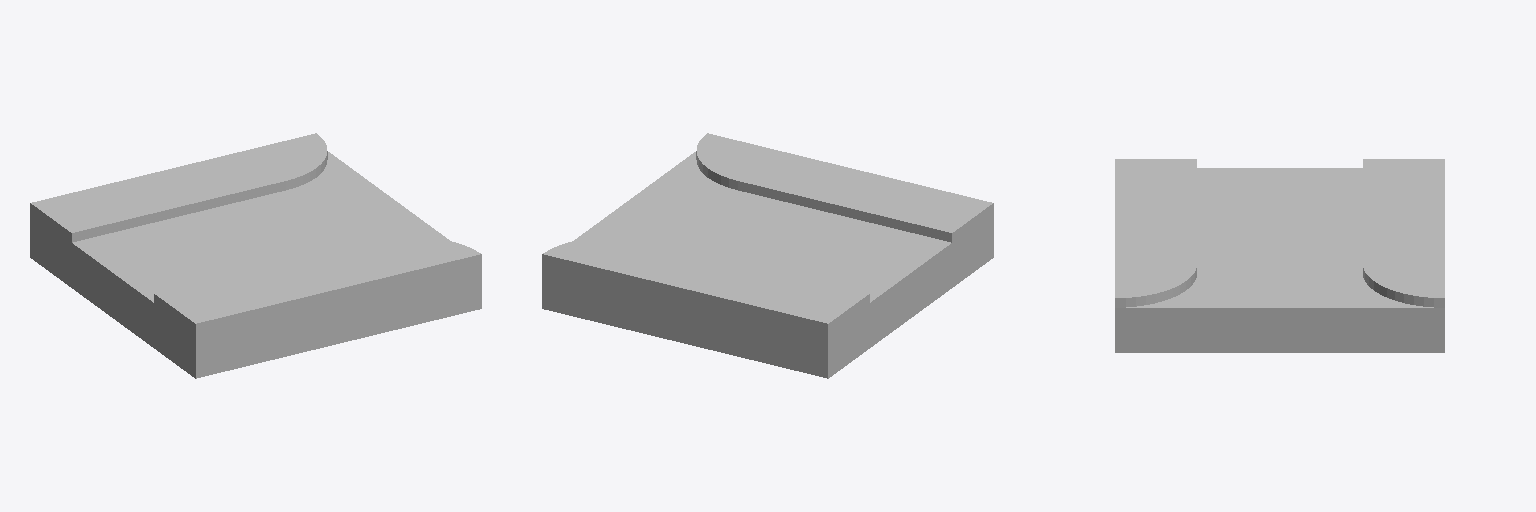
Rendered from roadTile_176.obj.
3 views of the same model, side by side, from view 1: azimuth 30°, elevation 25°; view 2: azimuth 150°, elevation 25°; view 3: azimuth 270°, elevation 25° (orthographic).
Parts seen in each view (by area): view 1: Mesh1 Group1 Model; view 2: Mesh1 Group1 Model; view 3: Mesh1 Group1 Model.
Boxes of the visible parts, <box> form: Mesh1 Group1 Model: <box>30,133,481,378</box>; Mesh1 Group1 Model: <box>542,133,993,378</box>; Mesh1 Group1 Model: <box>1115,159,1444,352</box>.
Bounding box in the file's own units: 3 × 0.55 × 3.